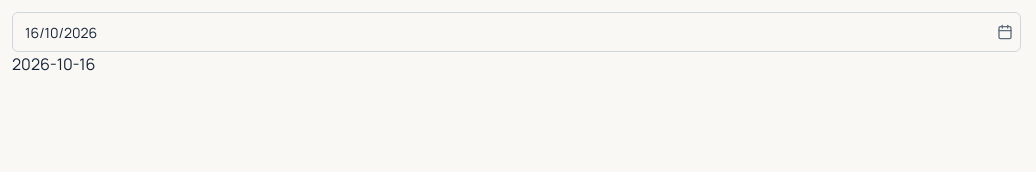
Test: DateInputBR › ano de 4 dígitos e data inválida
The image size is (1036, 172).
Replace the text in the field with placeholder "dd/mm/aaaa" with "31/02/2026" at (516, 32), box [12, 12, 1021, 52]
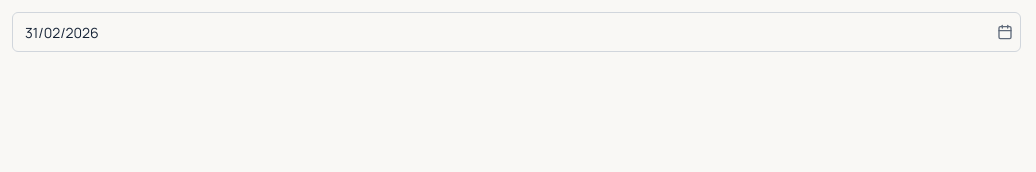
Replace the text in the field with placeholder "dd/mm/aaaa" with "05/12/2026" at (516, 32), box [12, 12, 1021, 52]
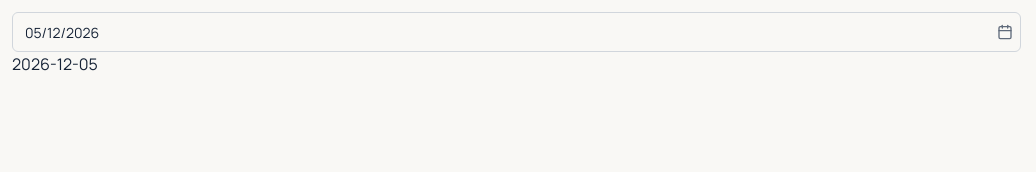
Check: the text with test id "iso" reads "2026-12-05", box [12, 53, 98, 75]
